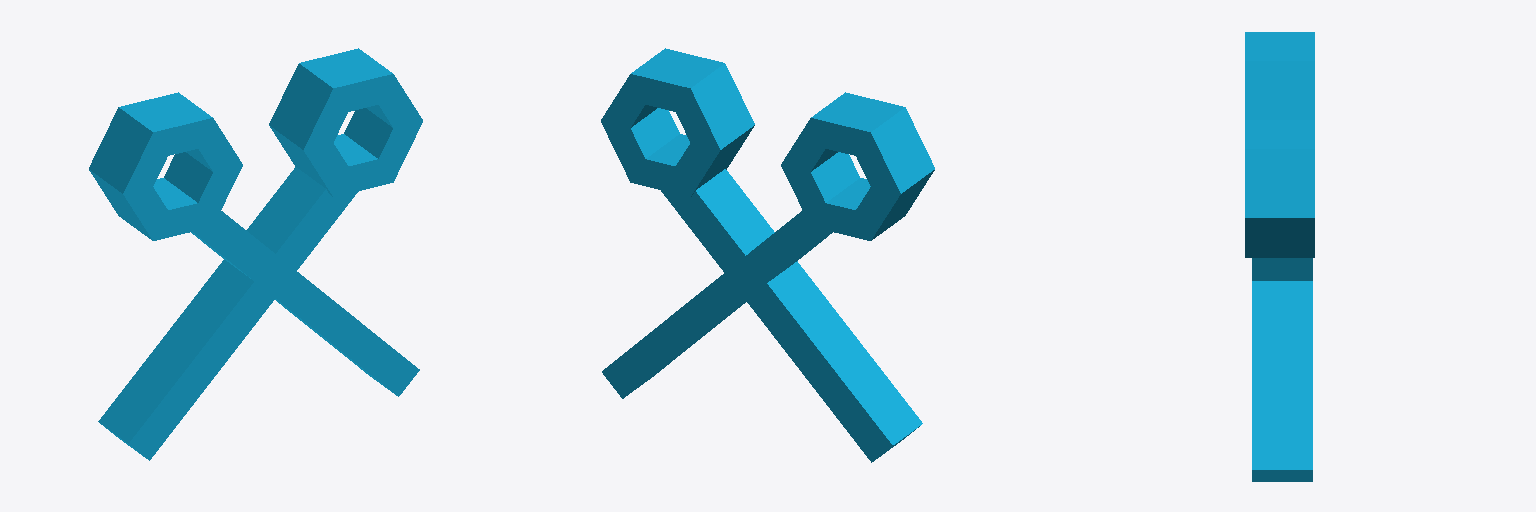
The model's file is Blade.obj.
3 renders of one model, left to right at view 1: azimuth 30°, elevation 25°; view 2: azimuth 150°, elevation 25°; view 3: azimuth 270°, elevation 25°, orthographic.
Visible parts, largest first — view 1: Blade; view 2: Blade; view 3: Blade.
Boxes of the visible parts, <box> form: Blade: <box>89,48,422,460</box>; Blade: <box>601,48,934,462</box>; Blade: <box>1245,32,1314,481</box>.
Size of the model in its own units: 1.25 by 1.32 by 0.25.